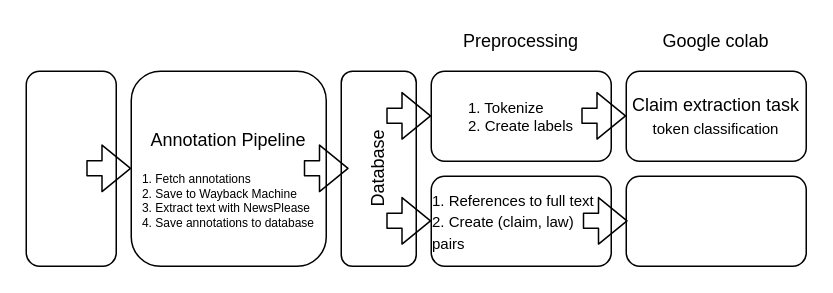
Some shapes in this 833 by 293 pixel diagram are drawn without their labels. The shapes that lost their labels are listed below. From the top down, each one's centre as x and y in pixels, then its label:
(70,168): Hypothesis
(715,220): Claim matching task text classifiaction
